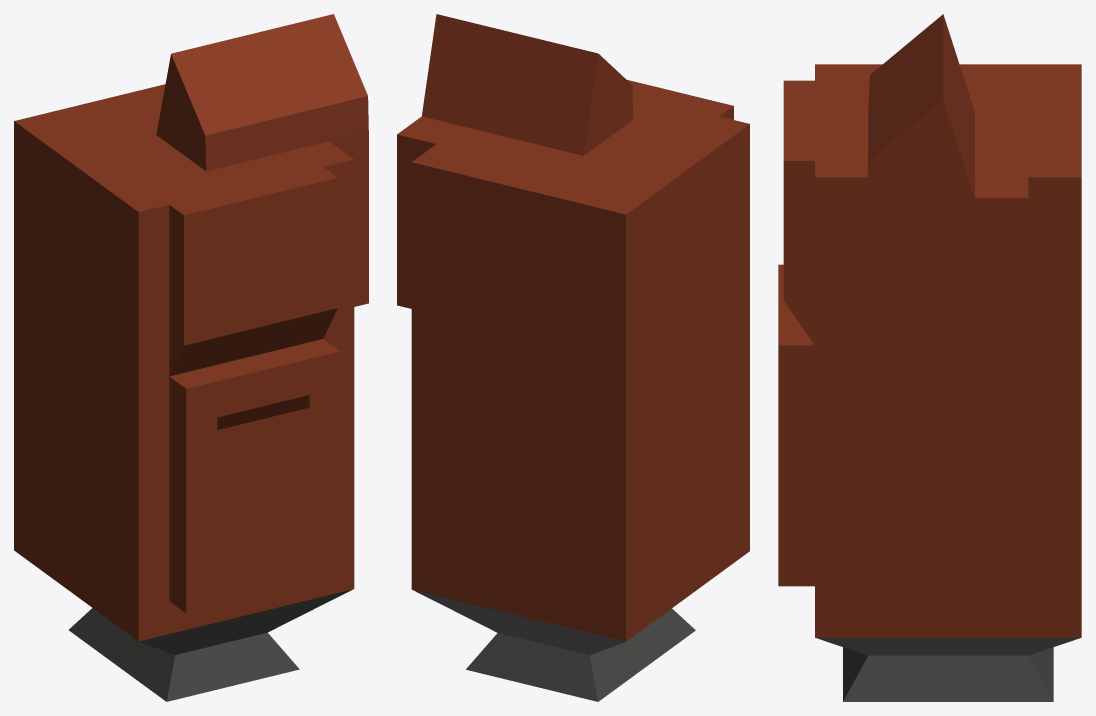
File: mail_box.fbx
The picture shows the model from 3 angles, left to right: view 1: azimuth 30°, elevation 25°; view 2: azimuth 150°, elevation 25°; view 3: azimuth 270°, elevation 25°; orthographic projection. The views are drawn at different scales.
Visible parts, largest first — view 1: mail_box; view 2: mail_box; view 3: mail_box.
Boxes of the visible parts, <box> form: mail_box: <box>14,14,368,701</box>; mail_box: <box>397,14,749,701</box>; mail_box: <box>778,14,1081,701</box>.
Size of the model in its own units: 64.88 by 146 by 62.35.
